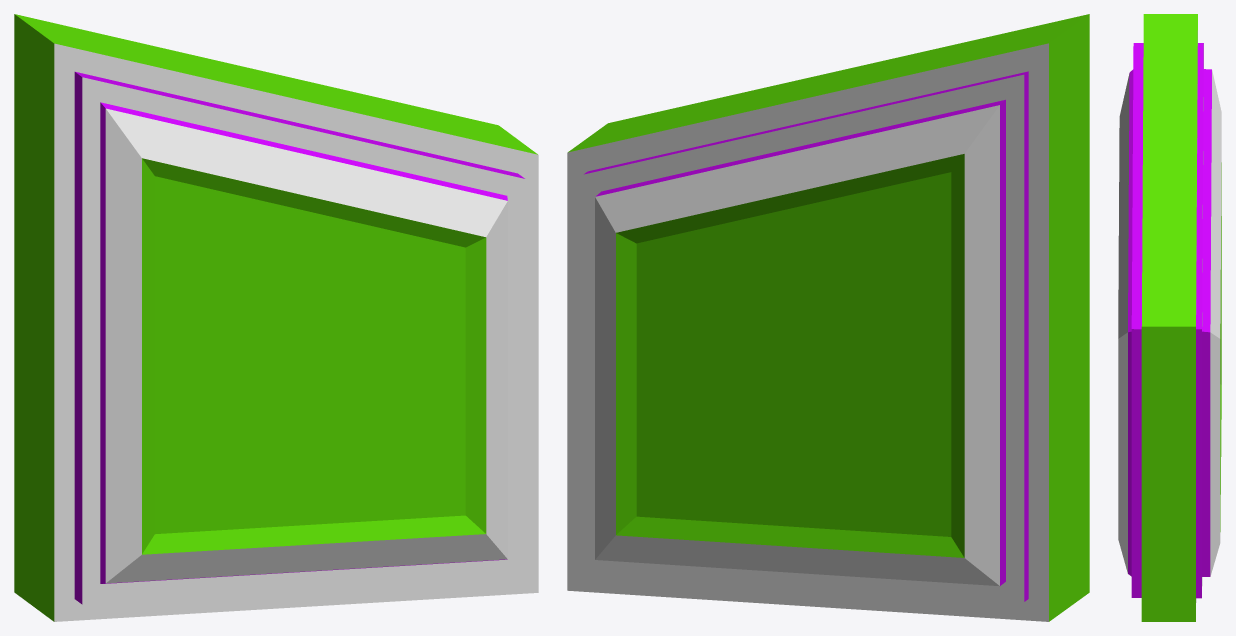
The model's file is altk_lv6.fbx.
3 views of the same model, side by side, from view 1: azimuth 30°, elevation 25°; view 2: azimuth 150°, elevation 25°; view 3: azimuth 270°, elevation 25° (orthographic). The views are drawn at different scales.
Parts seen in each view (by area): view 1: altk_lv6; view 2: altk_lv6; view 3: altk_lv6.
Part boxes in pixels (bbox=[...]): altk_lv6: bbox=[14, 14, 538, 621]; altk_lv6: bbox=[567, 14, 1089, 621]; altk_lv6: bbox=[1118, 14, 1221, 621].
Bounding box in the file's own units: 103 × 135 × 28.33.
